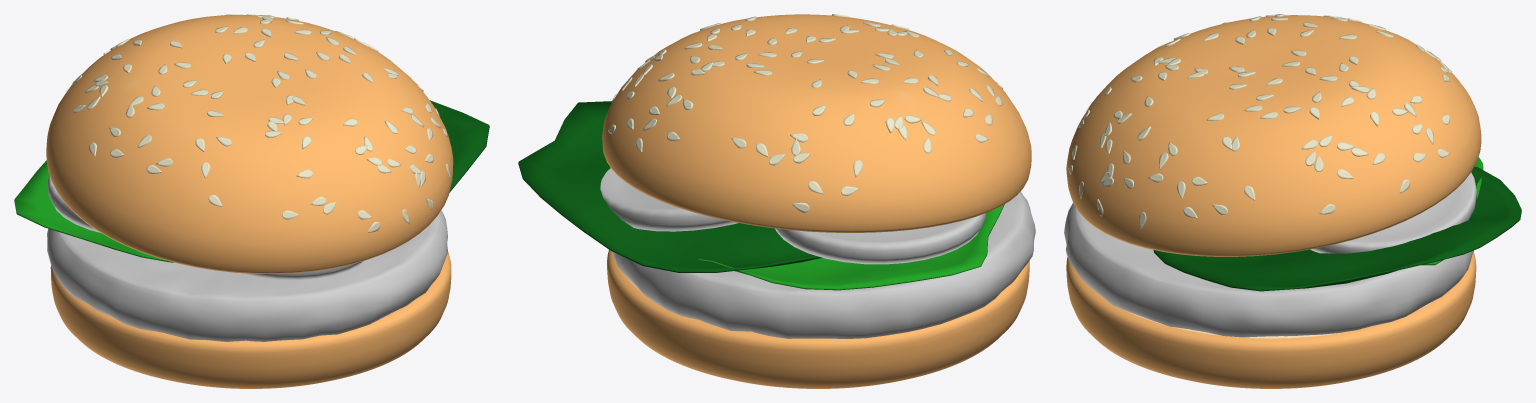
File: BurgerVegana.fbx
3 views of the same model, side by side, from view 1: azimuth 30°, elevation 25°; view 2: azimuth 150°, elevation 25°; view 3: azimuth 270°, elevation 25° (orthographic). The views are drawn at different scales.
Visible parts, largest first — view 1: PanArriba.001, CarneTernera.001, PanBajo.001, Lechuga.002, Lechuga.003, Tomate.005, Tomate.004; view 2: PanArriba.001, CarneTernera.001, PanBajo.001, Lechuga.003, Lechuga.002, Tomate.004, Tomate.003; view 3: PanArriba.001, CarneTernera.001, PanBajo.001, Lechuga.003, Tomate.003.
Part boxes in pixels (x1=…): PanArriba.001: x1=46, y1=14, x2=453, y2=273; CarneTernera.001: x1=47, y1=210, x2=447, y2=341; PanBajo.001: x1=50, y1=252, x2=451, y2=388; Lechuga.002: x1=14, y1=160, x2=173, y2=262; Lechuga.003: x1=430, y1=100, x2=489, y2=192; Tomate.005: x1=237, y1=260, x2=364, y2=280; Tomate.004: x1=48, y1=175, x2=100, y2=232; PanArriba.001: x1=602, y1=14, x2=1031, y2=232; CarneTernera.001: x1=613, y1=191, x2=1035, y2=338; PanBajo.001: x1=607, y1=250, x2=1029, y2=388; Lechuga.003: x1=518, y1=101, x2=822, y2=272; Lechuga.002: x1=697, y1=204, x2=1004, y2=290; Tomate.004: x1=775, y1=213, x2=986, y2=264; Tomate.003: x1=600, y1=168, x2=737, y2=231; PanArriba.001: x1=1066, y1=14, x2=1481, y2=256; CarneTernera.001: x1=1064, y1=203, x2=1473, y2=337; PanBajo.001: x1=1066, y1=252, x2=1476, y2=388; Lechuga.003: x1=1153, y1=166, x2=1521, y2=291; Tomate.003: x1=1310, y1=172, x2=1476, y2=253.
Size of the model in its own units: 0.3306 by 0.1932 by 0.2996.
